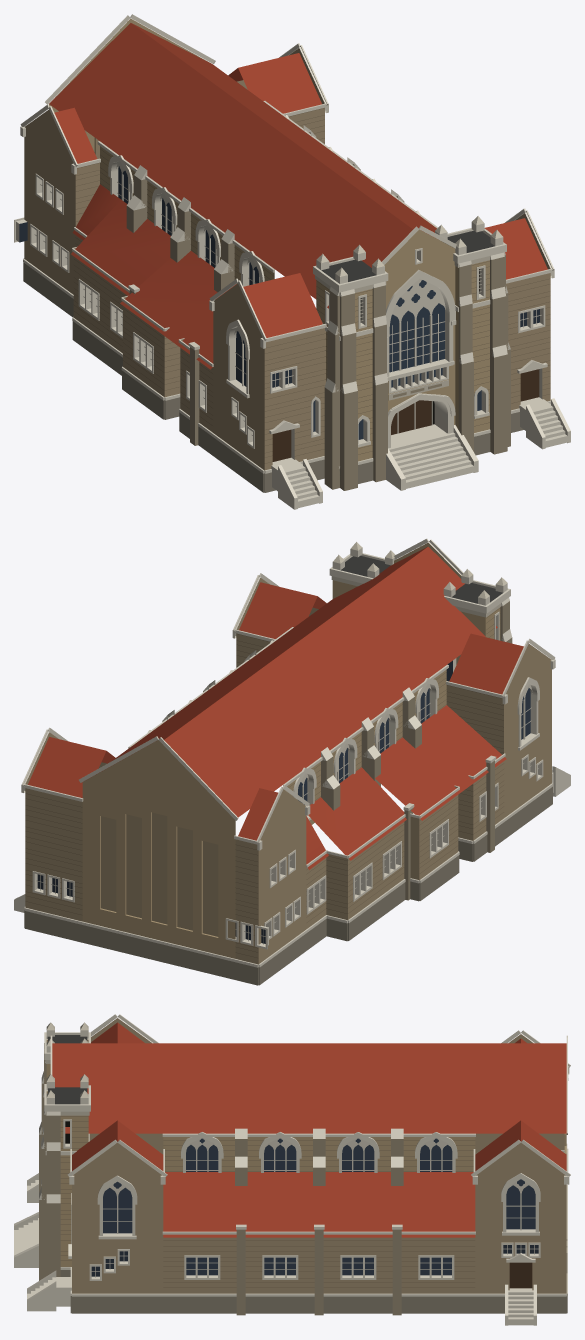
The model's file is ch-first-baptist-1961.glb.
3 views of the same model, one above another, from view 1: azimuth 30°, elevation 25°; view 2: azimuth 150°, elevation 25°; view 3: azimuth 270°, elevation 25° (orthographic). The views are drawn at different scales.
Visible parts, largest first — view 1: ch_tile, ch_trim, ch_ashlar2, ch_ashlar3, ch_ashlar, ch_base, ch_stain, ch_joint, ch_trc, ch_door, ch_roof, ch_trim2; view 2: ch_tile, ch_ashlar2, ch_ashlar, ch_trim, ch_base, ch_ashlar3, ch_joint, ch_stain, ch_roof, ch_trc, ch_trim2; view 3: ch_tile, ch_ashlar2, ch_trim, ch_base, ch_stain, ch_ashlar3, ch_ashlar, ch_joint, ch_trc, ch_roof, ch_door, ch_trim2 (+1 smaller).
Part boxes in pixels (bbox=[...]): ch_tile: bbox=[49, 23, 547, 369]; ch_trim: bbox=[14, 14, 570, 509]; ch_ashlar2: bbox=[24, 48, 550, 470]; ch_ashlar3: bbox=[126, 132, 510, 490]; ch_ashlar: bbox=[49, 18, 489, 461]; ch_base: bbox=[23, 262, 523, 492]; ch_stain: bbox=[118, 166, 481, 439]; ch_joint: bbox=[74, 108, 550, 463]; ch_trc: bbox=[34, 161, 541, 435]; ch_door: bbox=[272, 369, 539, 461]; ch_roof: bbox=[321, 230, 494, 281]; ch_trim2: bbox=[315, 216, 504, 400]; ch_tile: bbox=[28, 546, 523, 869]; ch_ashlar2: bbox=[25, 578, 551, 964]; ch_ashlar: bbox=[82, 542, 500, 958]; ch_trim: bbox=[14, 538, 570, 967]; ch_base: bbox=[24, 786, 552, 985]; ch_ashlar3: bbox=[162, 601, 512, 900]; ch_joint: bbox=[25, 608, 503, 957]; ch_stain: bbox=[298, 660, 530, 804]; ch_roof: bbox=[341, 555, 502, 603]; ch_trc: bbox=[36, 683, 538, 944]; ch_trim2: bbox=[331, 542, 507, 617]; ch_tile: bbox=[52, 1022, 566, 1237]; ch_ashlar2: bbox=[72, 1018, 566, 1293]; ch_trim: bbox=[14, 1014, 570, 1325]; ch_base: bbox=[60, 1270, 567, 1313]; ch_stain: bbox=[103, 1138, 535, 1275]; ch_ashlar3: bbox=[39, 1049, 403, 1315]; ch_ashlar: bbox=[46, 1039, 566, 1266]; ch_joint: bbox=[61, 1116, 474, 1287]; ch_trc: bbox=[91, 1137, 538, 1277]; ch_roof: bbox=[48, 1035, 87, 1104]; ch_door: bbox=[509, 1262, 532, 1288]; ch_trim2: bbox=[45, 1022, 89, 1115].
Bounding box in the file's own units: 23.48 × 16.83 × 39.63.
